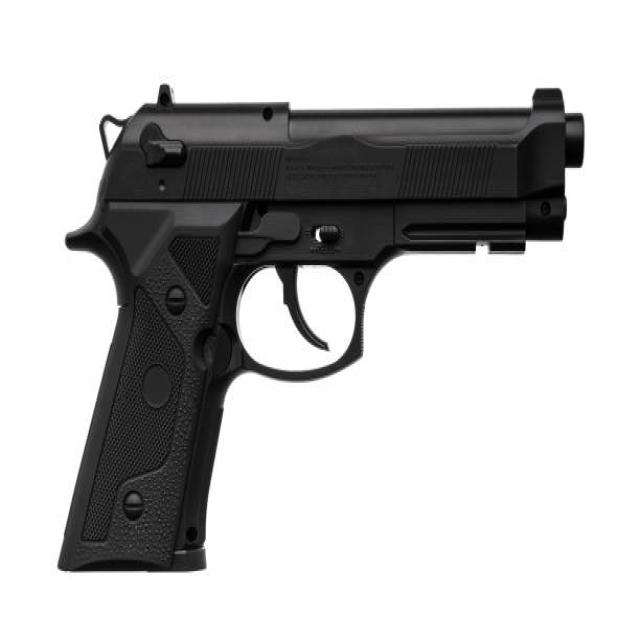pistol: (43, 77, 588, 578)
